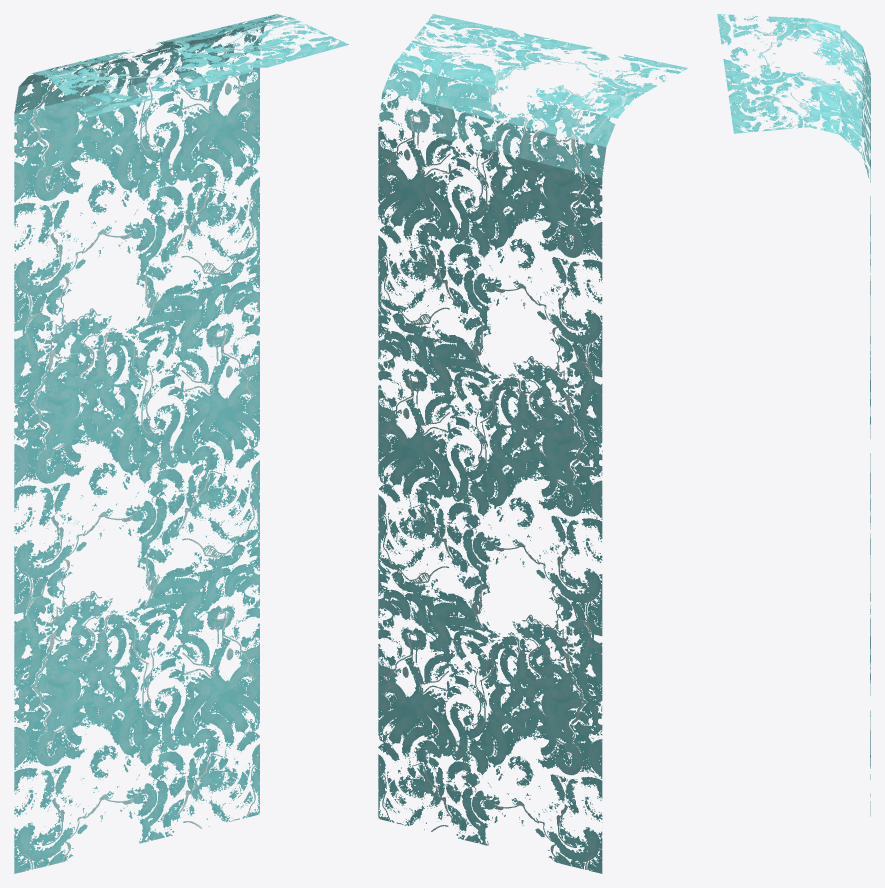
The model's file is polygonalmind-momuspark-063.glb.
The picture shows the model from 3 angles, left to right: view 1: azimuth 30°, elevation 25°; view 2: azimuth 150°, elevation 25°; view 3: azimuth 270°, elevation 25°; orthographic projection. The views are drawn at different scales.
Parts seen in each view (by area): view 1: Water_Fall_01_Art.001; view 2: Water_Fall_01_Art.001; view 3: Water_Fall_01_Art.001.
Boxes of the visible parts, box(x1,y1,x2,y2) form: Water_Fall_01_Art.001: box(14, 14, 348, 873); Water_Fall_01_Art.001: box(378, 14, 688, 873); Water_Fall_01_Art.001: box(717, 14, 870, 816).
Size of the model in its own units: 5.12 by 14.87 by 2.77.
1 material, 1 textured.
